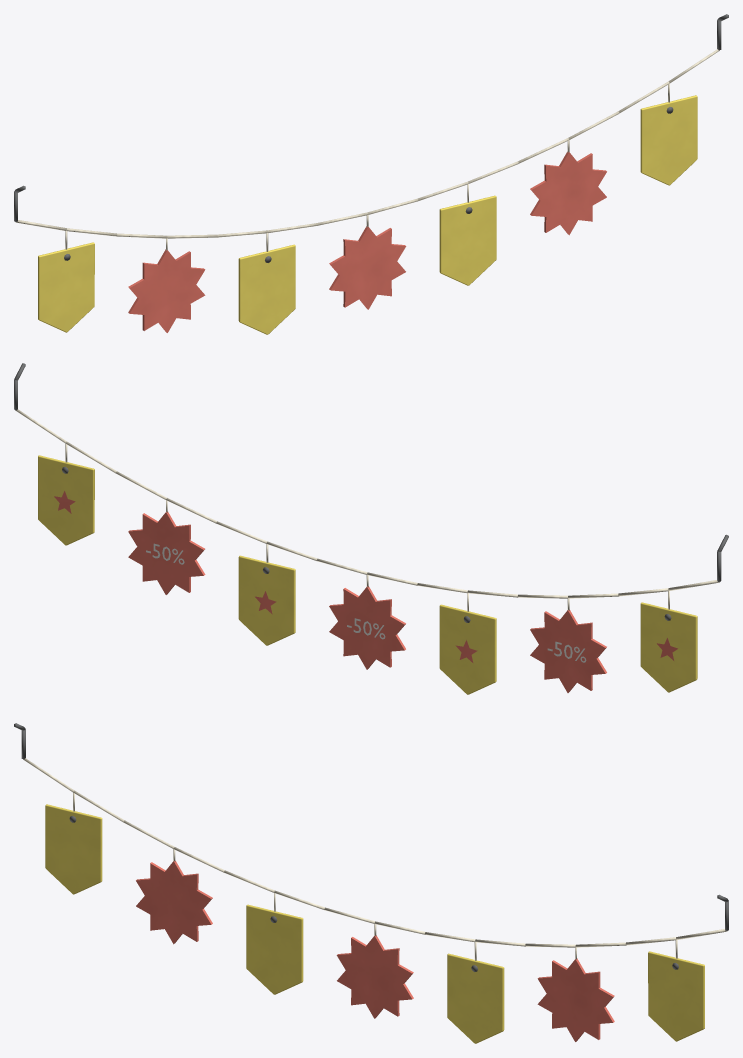
Rendered from FimMes_PriceTags.fbx.
The picture shows the model from 3 angles, top to bottom: view 1: azimuth 30°, elevation 25°; view 2: azimuth 150°, elevation 25°; view 3: azimuth 330°, elevation 25°; orthographic projection.
Parts seen in each view (by area): view 1: FimMes_PriceTags; view 2: FimMes_PriceTags; view 3: FimMes_PriceTags.
Boxes of the visible parts, box(x1,y1,x2,y2) form: FimMes_PriceTags: box(14, 14, 728, 334); FimMes_PriceTags: box(14, 363, 728, 694); FimMes_PriceTags: box(14, 723, 728, 1043).
Size of the model in its own units: 3.02 by 0.8793 by 0.0756.
Materials: 1 (1 with a texture image).
